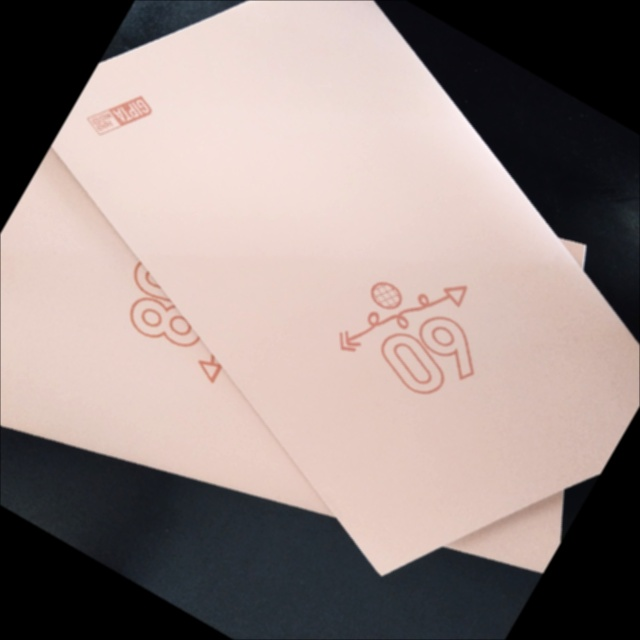60_sayfa_gipta_defter: (54, 0, 639, 572)
80_sayfa_gipta_defter: (1, 151, 332, 515), (448, 494, 563, 570)
